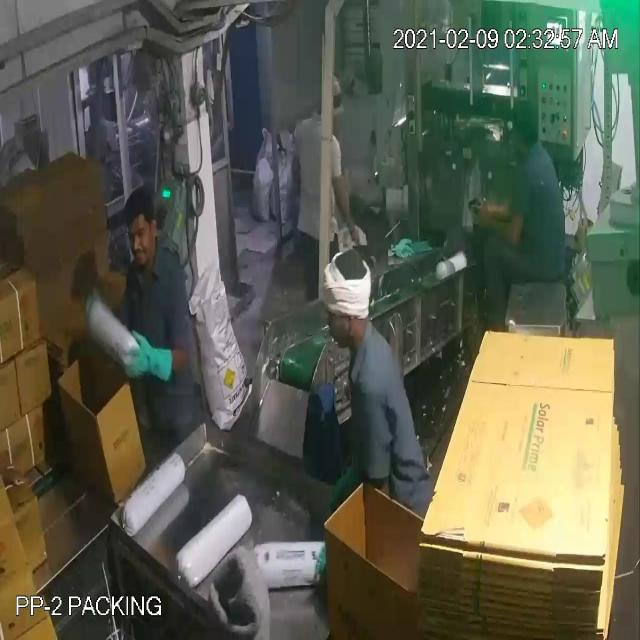gloves: (110, 320, 177, 394)
no-gloves: (466, 191, 526, 251)
